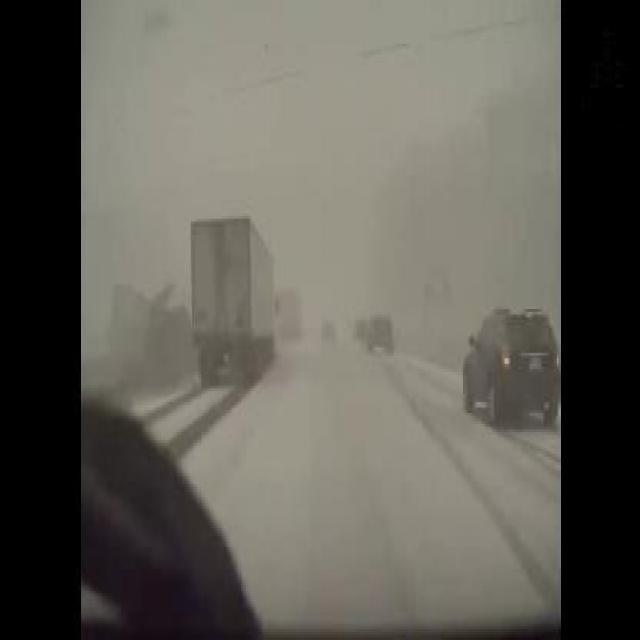accident: (109, 265, 191, 394)
